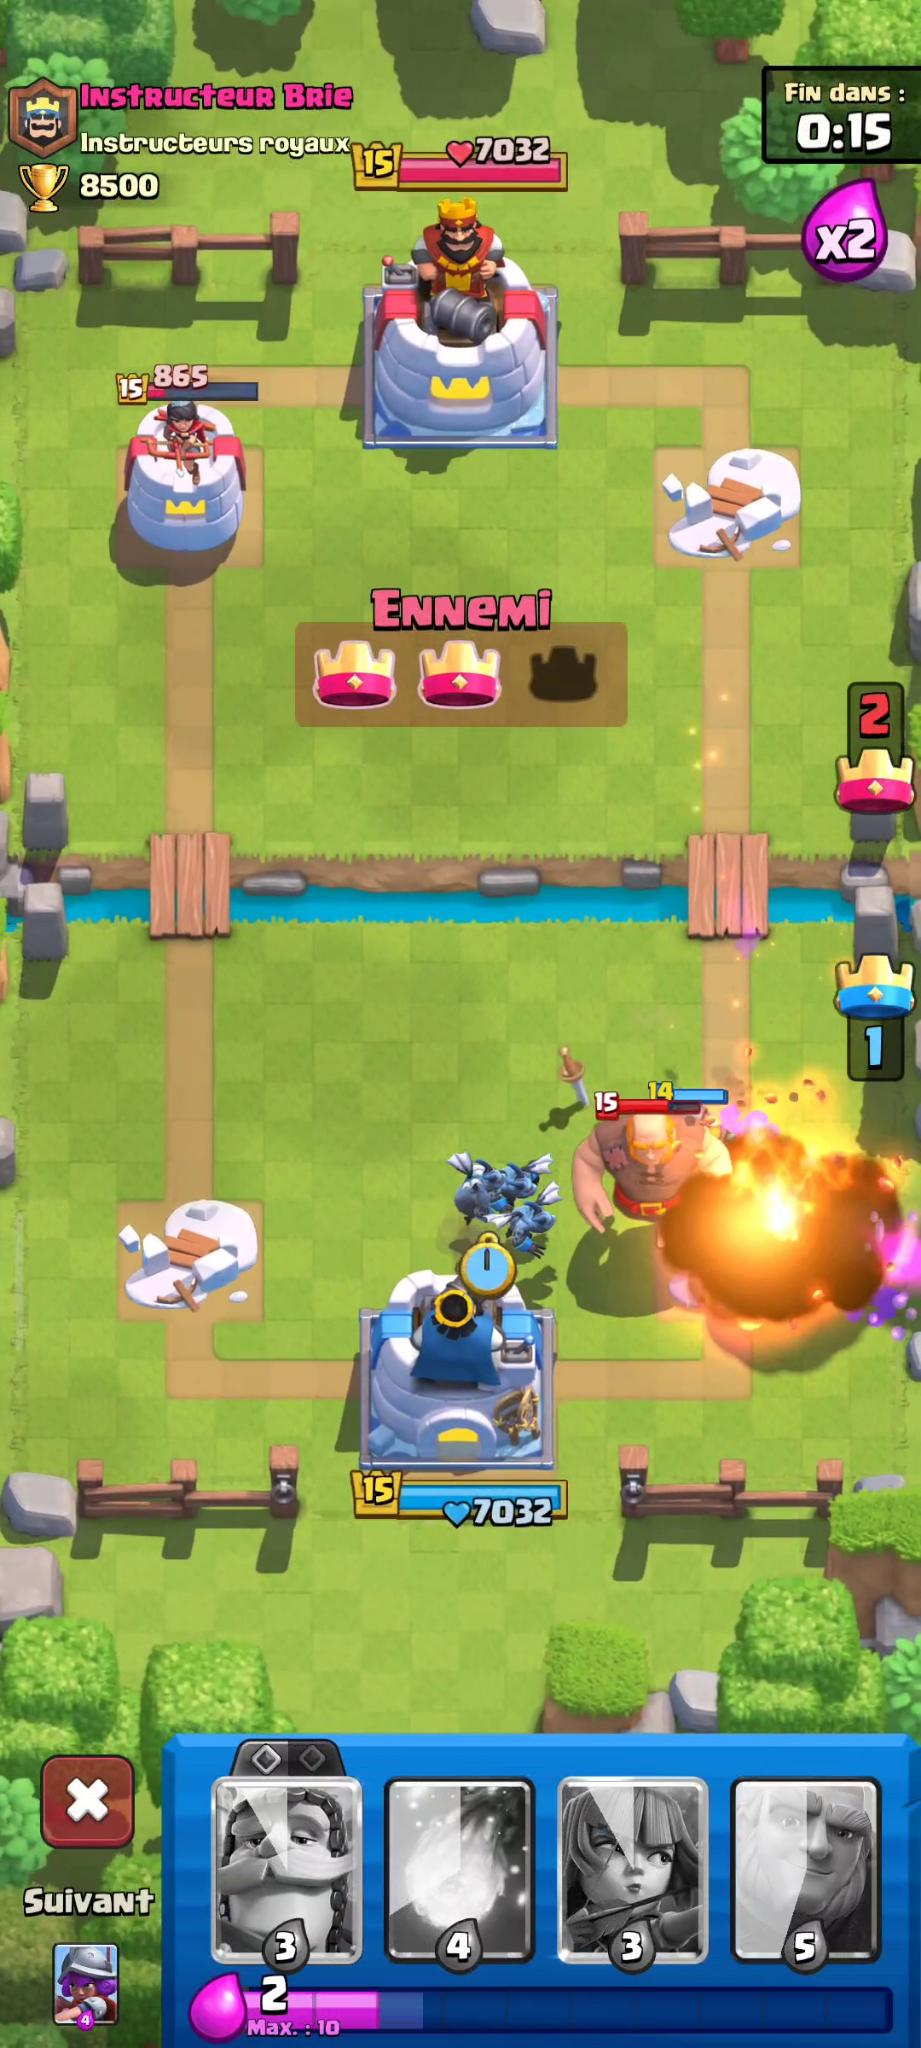gargouille: (487, 1183, 560, 1263), (490, 1147, 555, 1208), (449, 1145, 494, 1220)
geant: (574, 1084, 737, 1234)
